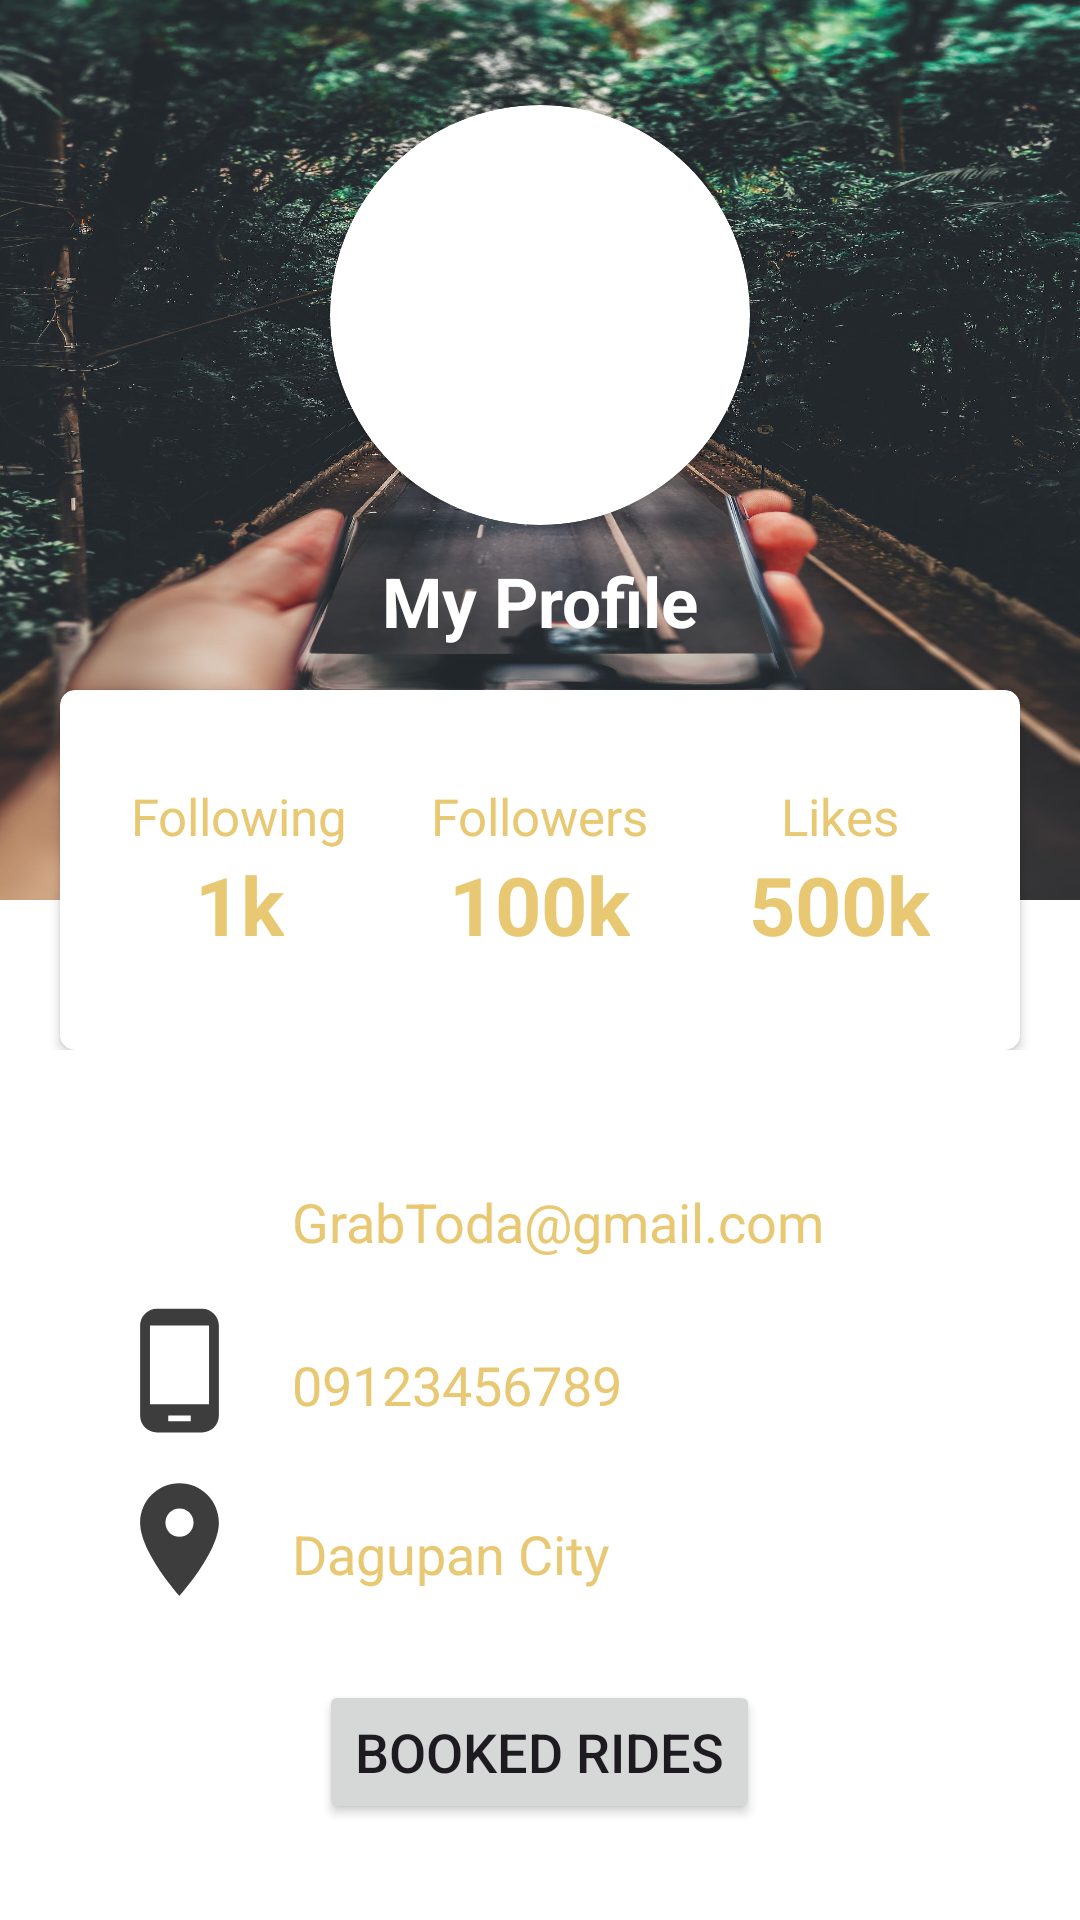

Named icons in this screenshot (1080x1920) and their bounding boxes, (x1, y1, x2, y2):
locations: (140, 1483, 219, 1596)
phones: (140, 1308, 219, 1433)
